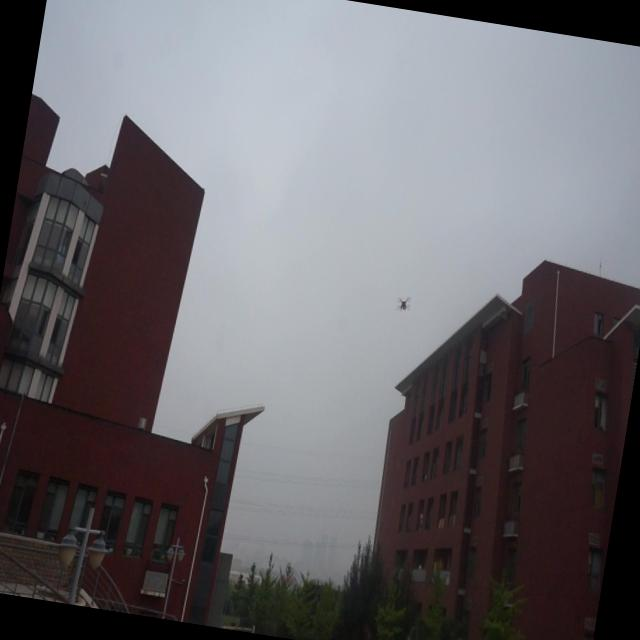drone: (394, 292, 414, 316)
